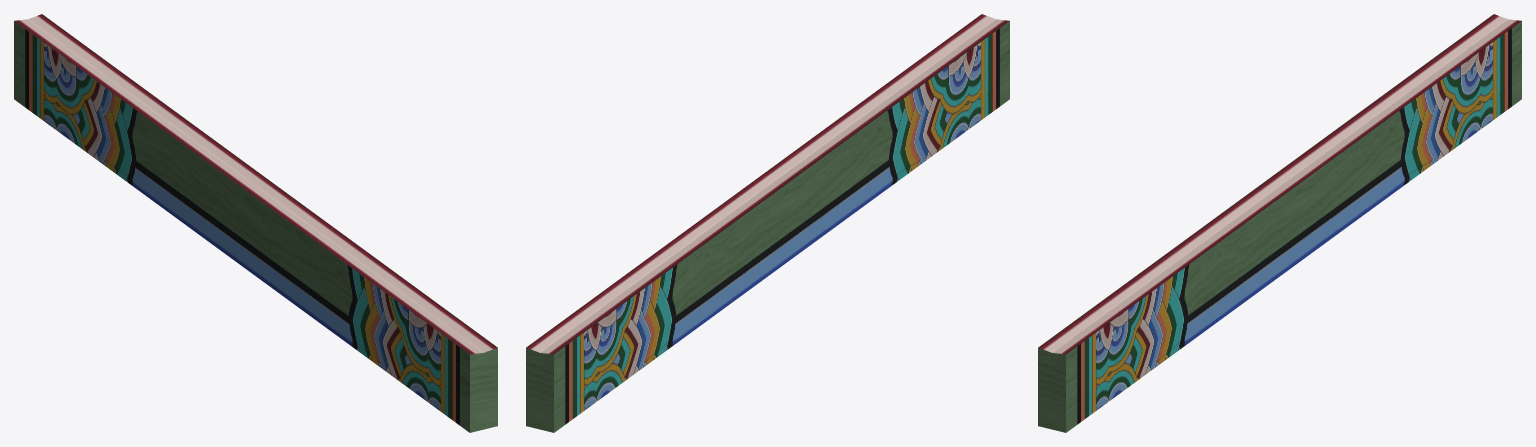
Rendered from SM_SJM_SupportingBeam02B_02.fbx.
The picture shows the model from 3 angles, left to right: view 1: azimuth 30°, elevation 25°; view 2: azimuth 150°, elevation 25°; view 3: azimuth 330°, elevation 25°; orthographic projection.
Parts seen in each view (by area): view 1: SM_SJM_SupportingBeam02B_02; view 2: SM_SJM_SupportingBeam02B_02; view 3: SM_SJM_SupportingBeam02B_02.
Part boxes in pixels (x1,y1,x2,y2): SM_SJM_SupportingBeam02B_02: (14,14,497,432); SM_SJM_SupportingBeam02B_02: (526,14,1009,432); SM_SJM_SupportingBeam02B_02: (1038,14,1521,432).
Size of the model in its own units: 9 by 253 by 24.05.
Materials: 1 (1 with a texture image).
